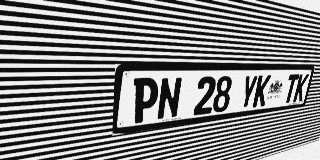2: (193, 76, 217, 115)
8: (212, 76, 234, 113)
K: (252, 75, 271, 108), (293, 74, 309, 102)
N: (156, 77, 183, 120)
P: (131, 78, 160, 124)
T: (282, 74, 300, 103)
Y: (238, 75, 258, 109)
